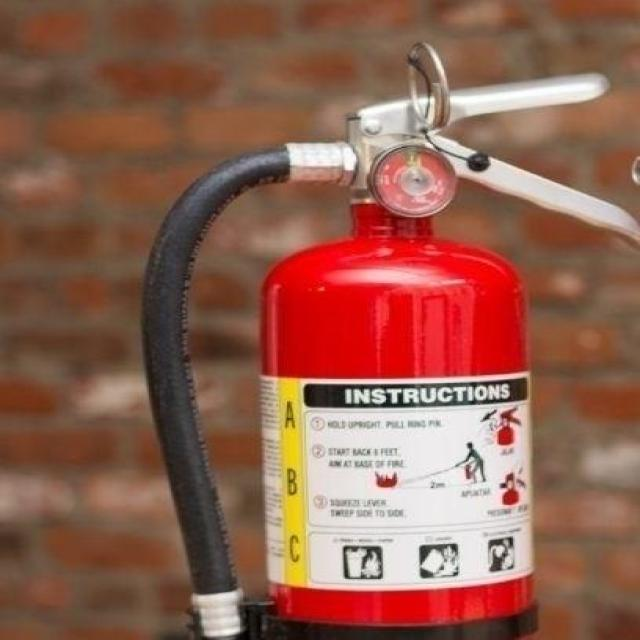fire_extinguisher: (131, 35, 638, 639)
